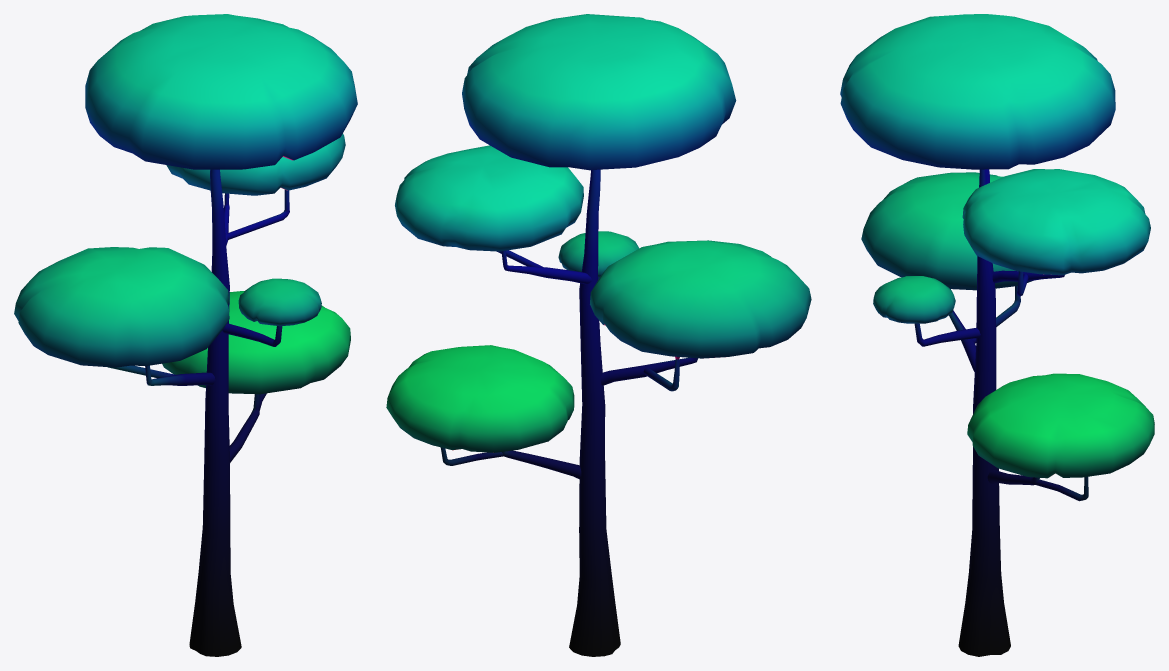
The model's file is tree_spore_2_GEO.fbx.
3 views of the same model, side by side, from view 1: azimuth 30°, elevation 25°; view 2: azimuth 150°, elevation 25°; view 3: azimuth 270°, elevation 25° (orthographic).
Visible parts, largest first — view 1: tree_spore_2_LOD0; view 2: tree_spore_2_LOD0; view 3: tree_spore_2_LOD0.
Boxes of the visible parts, bbox=[...] form: tree_spore_2_LOD0: bbox=[14, 14, 357, 656]; tree_spore_2_LOD0: bbox=[386, 14, 811, 656]; tree_spore_2_LOD0: bbox=[840, 14, 1154, 656].
Size of what is drawn, in the model's own units: 2.98 by 4.91 by 2.31.
